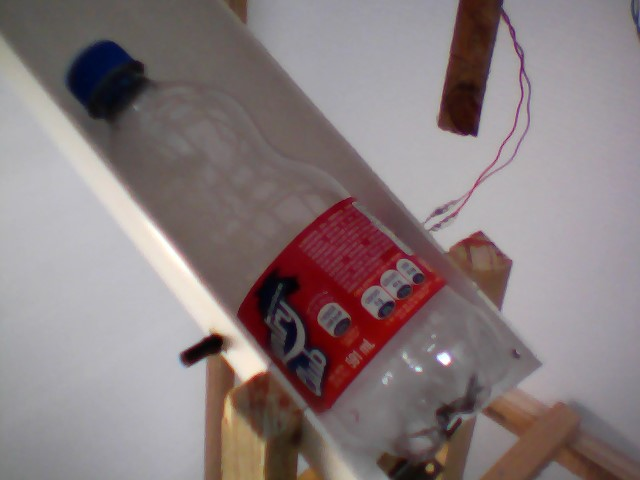plastico: (60, 31, 514, 480)
